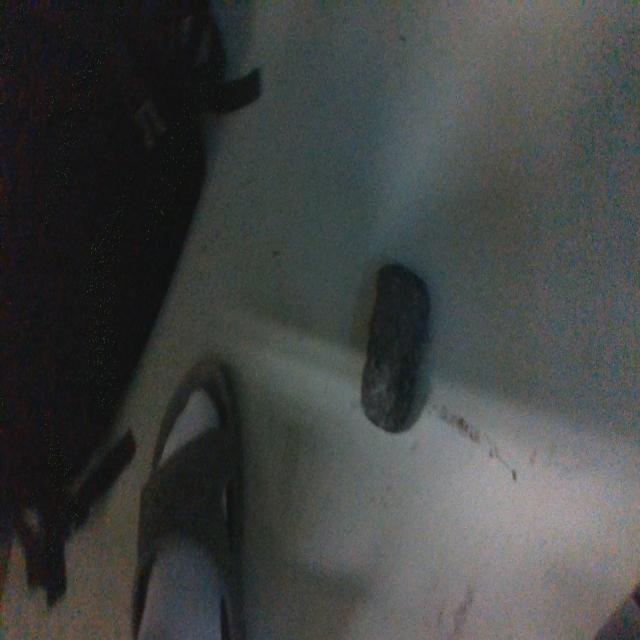stone: (361, 264, 431, 433)
